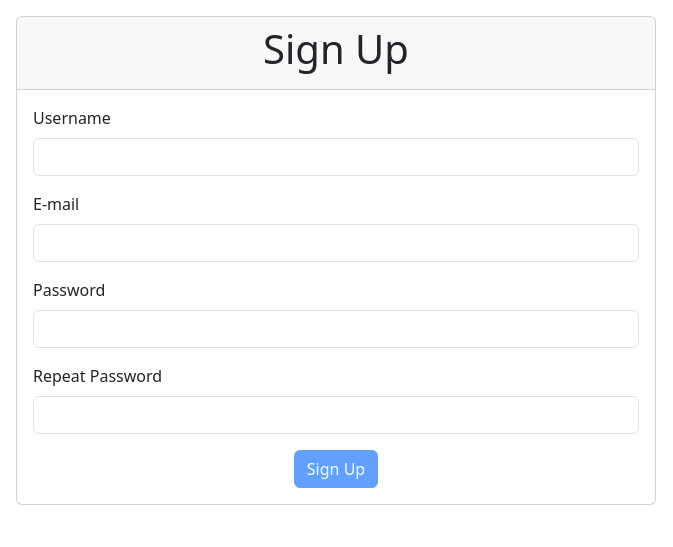
Sign Up Page › Interactions › display Username cannot be null for field $field.
Type "GoodUser" into the field labelled "Username".
click(336, 157); type("GoodUser")  # box x1=33 y1=138 x2=639 y2=176
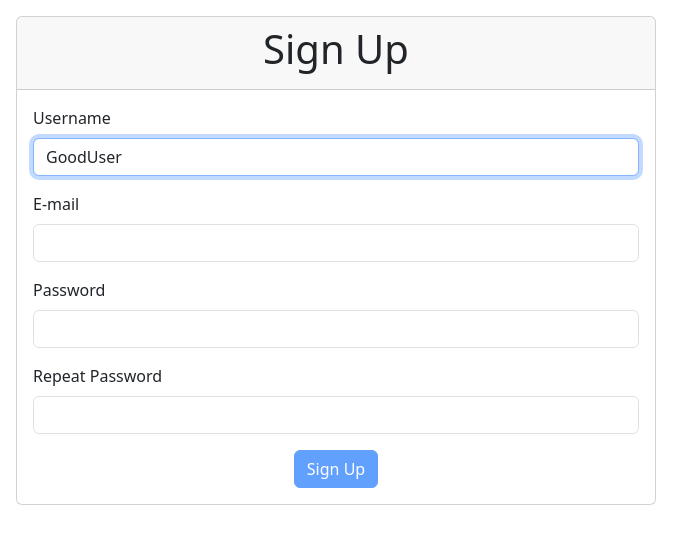
Type "my-email@host.com" into the field labelled "E-mail".
click(336, 243); type("my-email@host.com")  # box x1=33 y1=224 x2=639 y2=262
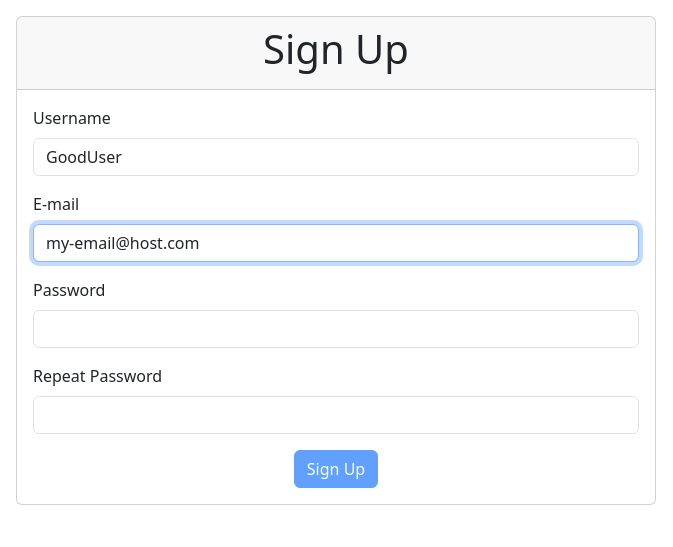
Type "myPassword@123" into the password field labelled "Password".
click(336, 329); type("myPassword@123")  # box x1=33 y1=310 x2=639 y2=348
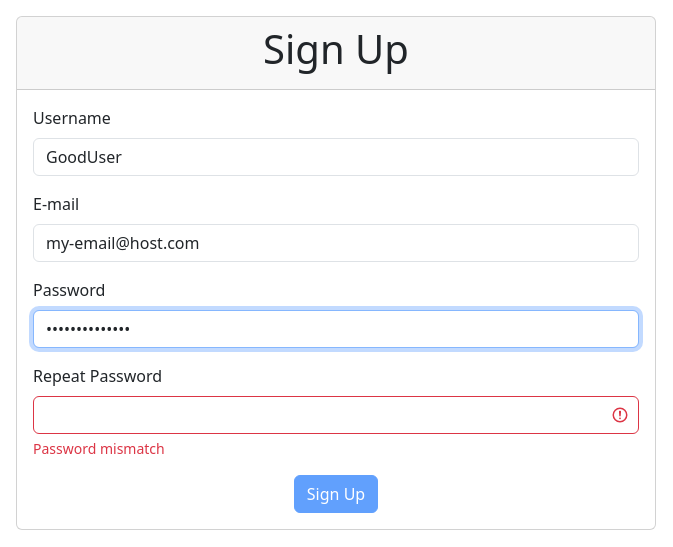
Type "myPassword@123" into the password field labelled "Repeat Password".
click(336, 415); type("myPassword@123")  # box x1=33 y1=396 x2=639 y2=434
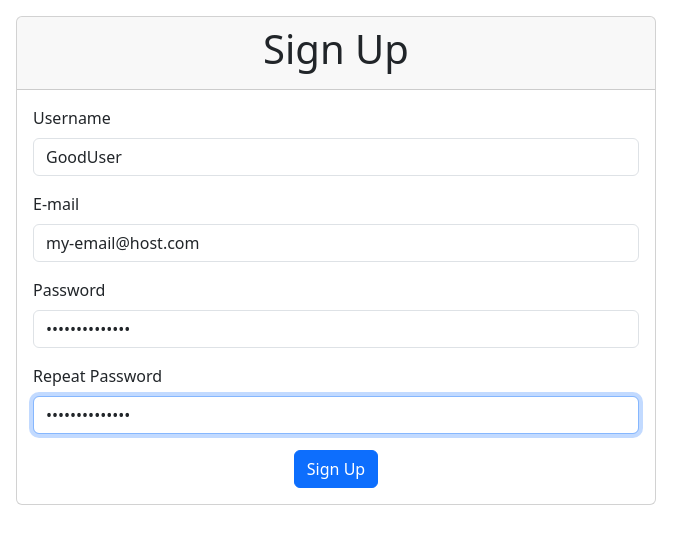
Click the button "Sign Up".
click(336, 469)  # box x1=294 y1=450 x2=378 y2=488
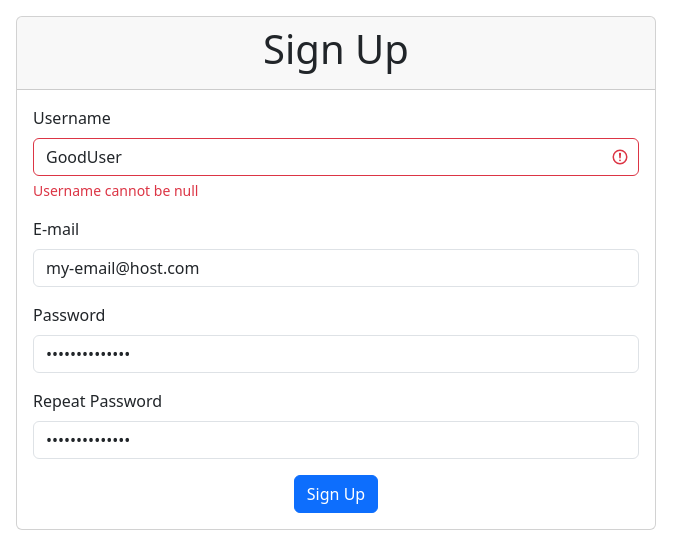
Check: the text "Username cannot be null" is shown, box x1=33 y1=181 x2=198 y2=200
